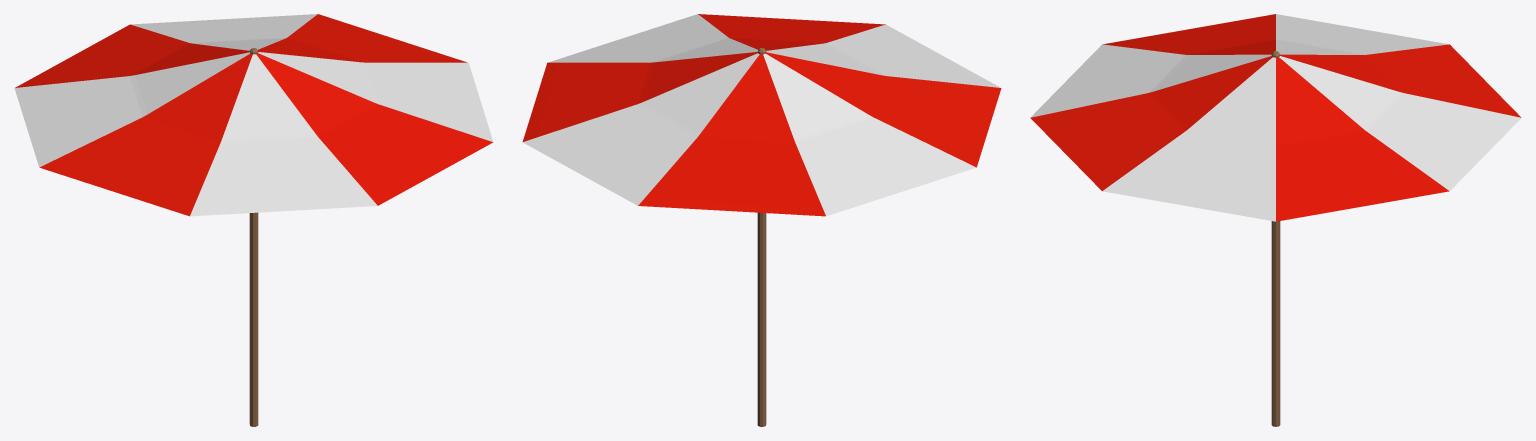
File: ParasolOpen1_v1.fbx
The picture shows the model from 3 angles, left to right: view 1: azimuth 30°, elevation 25°; view 2: azimuth 150°, elevation 25°; view 3: azimuth 270°, elevation 25°; orthographic projection.
Parts seen in each view (by area): view 1: Cylinder.156; view 2: Cylinder.156; view 3: Cylinder.156.
Part boxes in pixels (bbox=[...]): Cylinder.156: bbox=[14, 14, 493, 426]; Cylinder.156: bbox=[522, 14, 1001, 426]; Cylinder.156: bbox=[1030, 14, 1521, 426].
Bounding box in the file's own units: 984 × 824 × 984.
